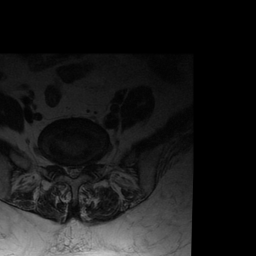CCS_stenosis: (71, 159, 76, 182)
LFS_severe_stenosis: (83, 157, 91, 173)
LLS_stenosis: (77, 159, 84, 179)
RFS_severe_stenosis: (56, 157, 64, 177)
RLS_stenosis: (64, 159, 70, 179)
